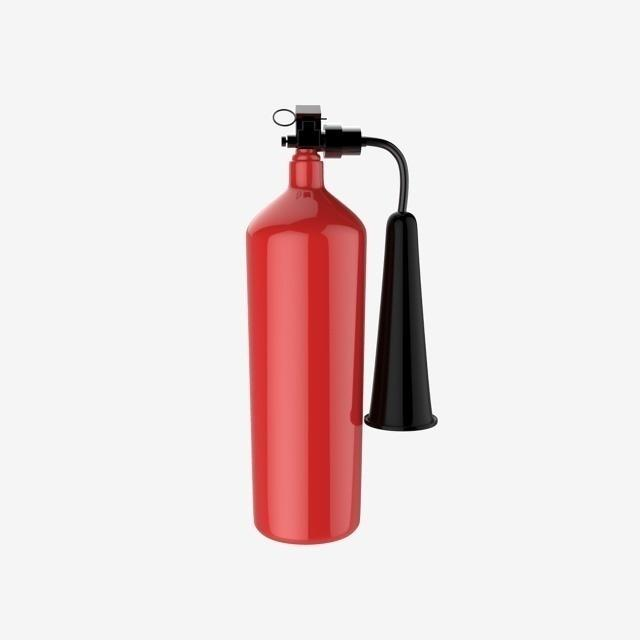fire_extinguisher: (240, 99, 442, 546)
